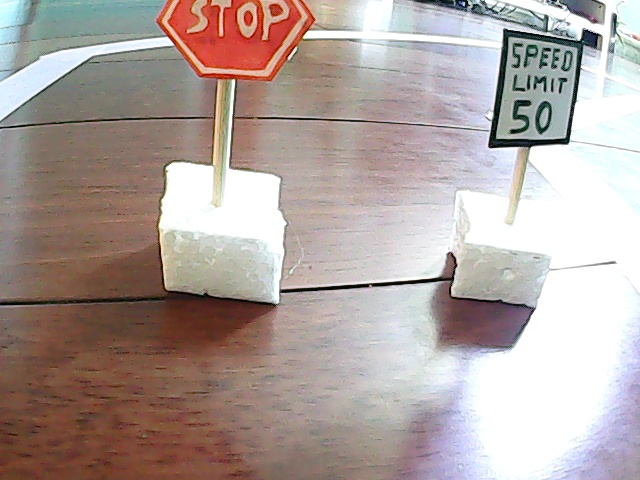speed_50: (465, 22, 588, 320)
stop: (159, 1, 305, 305)
